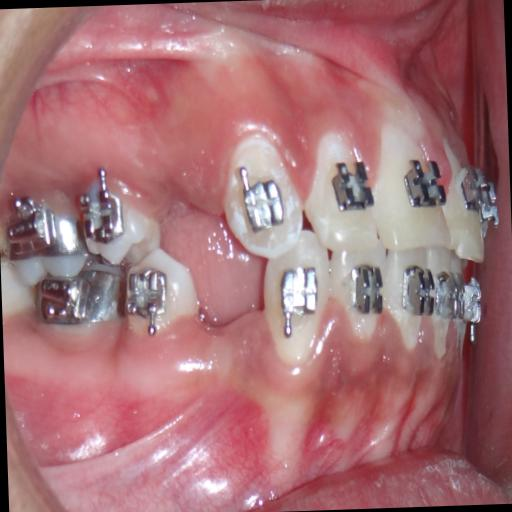correct_brace: (80, 164, 165, 264), (328, 150, 378, 224), (238, 172, 291, 230), (400, 157, 446, 212)
incorrect_brace: (304, 124, 376, 250), (78, 160, 126, 241)
